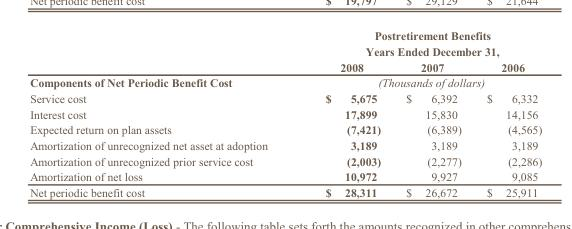table: (29, 29, 541, 198)
table column: (29, 29, 295, 198), (295, 29, 392, 198), (392, 29, 473, 198), (473, 29, 541, 198)
table column header: (29, 29, 541, 74)
table row: (29, 29, 541, 58), (29, 58, 541, 74), (29, 74, 541, 90), (29, 105, 541, 121), (29, 121, 541, 137), (29, 152, 541, 168), (29, 168, 541, 184), (29, 90, 541, 105), (29, 137, 541, 152), (29, 184, 541, 198)
table spanning cell: (295, 29, 541, 58), (295, 74, 541, 90)
